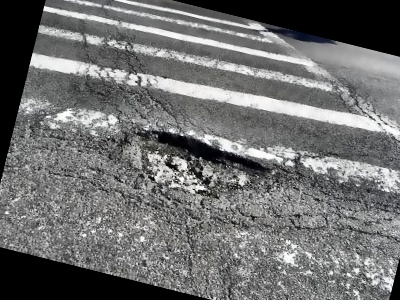pothole: (96, 114, 285, 217)
